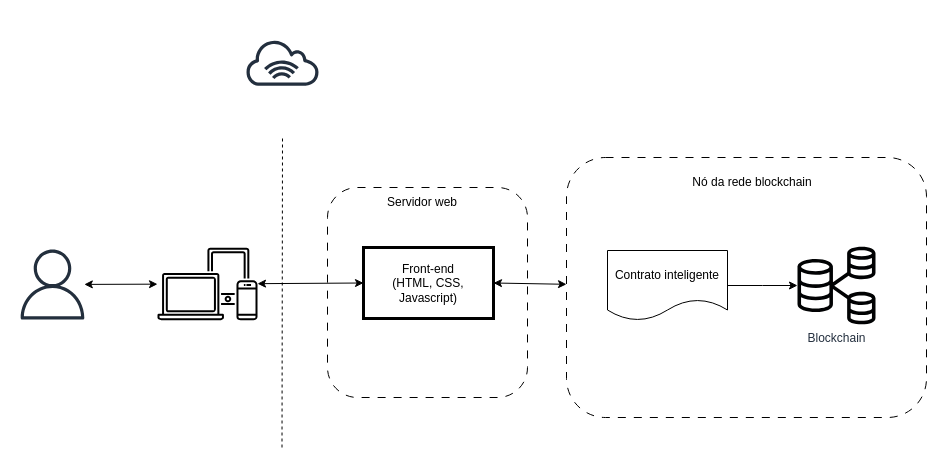
The diagram is 944 pixels wide and 466 high, and some of its shapes have lost their labels. Each missing label, with the box of its shape:
dispositivos: (157, 247, 257, 320)
Internet: (236, 16, 328, 108)
